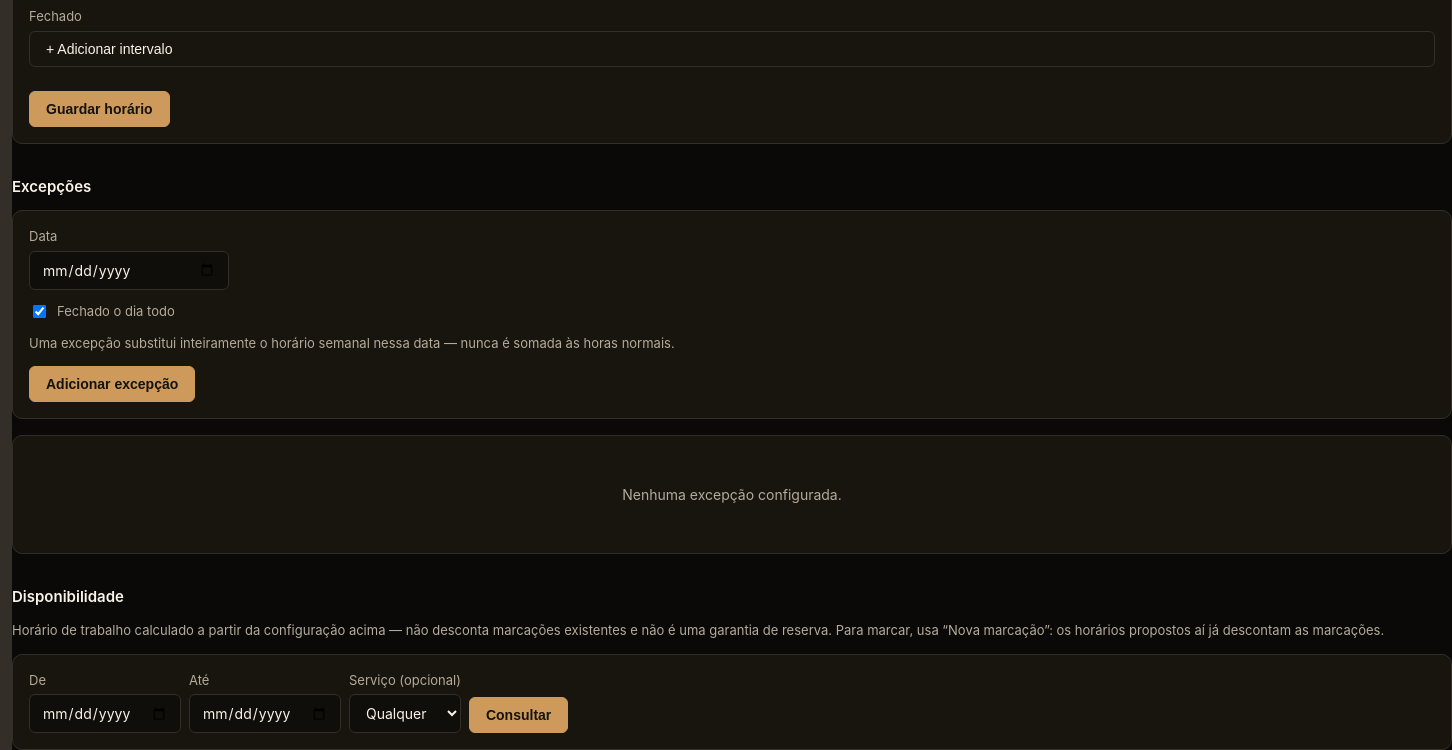
ProfessionalDetailPage — availability preview (F26, ADR-041: working availability, not a booking guarantee) › shows an empty state when every day in range has no working intervals
(page scrolled)
Type "2026-09-28" into the date field labelled "De".
click(105, 714); type("2026-09-28")  # box top-left (29, 694), bottom-right (181, 733)
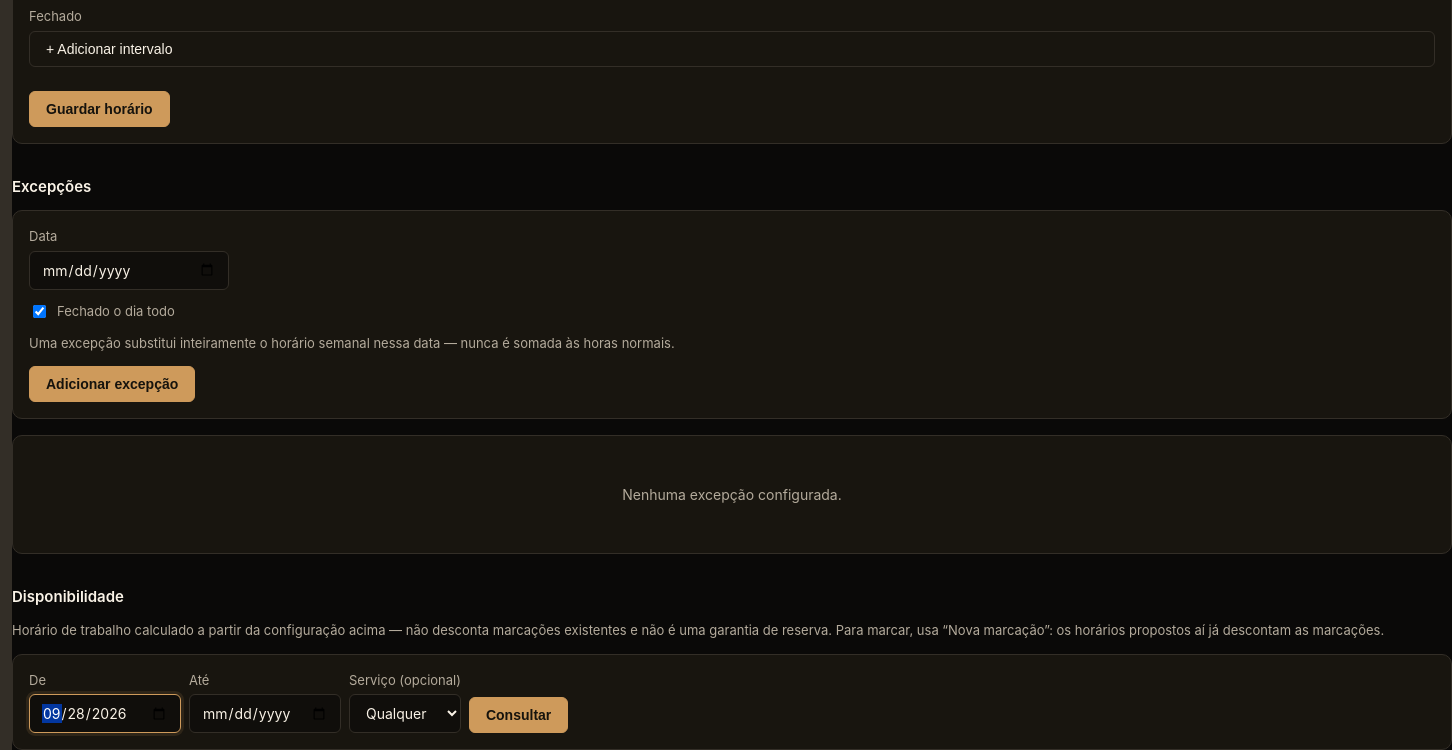
Type "2026-09-28" into the date field labelled "Até".
click(265, 714); type("2026-09-28")  # box top-left (189, 694), bottom-right (341, 733)
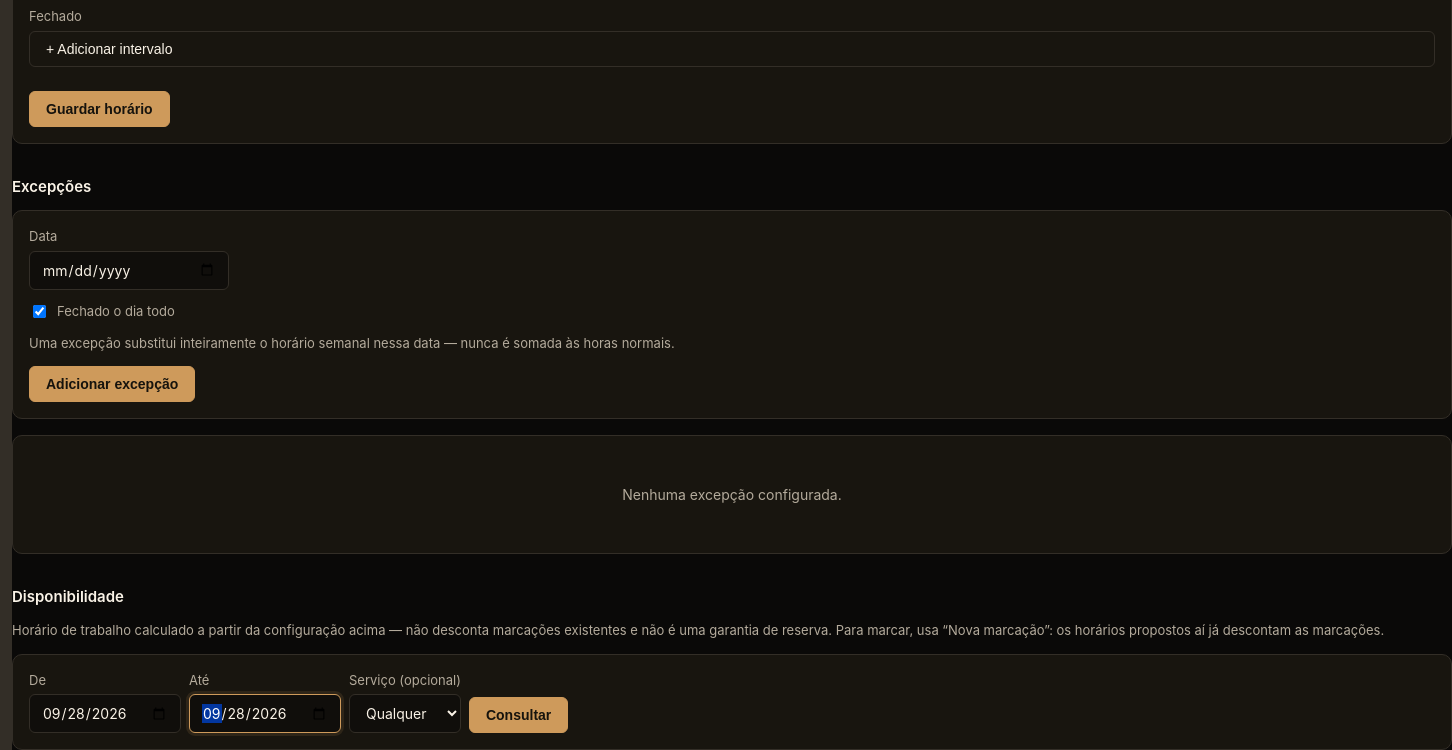
Click the button "Consultar".
click(519, 715)  # box top-left (469, 697), bottom-right (568, 733)
(page scrolled)
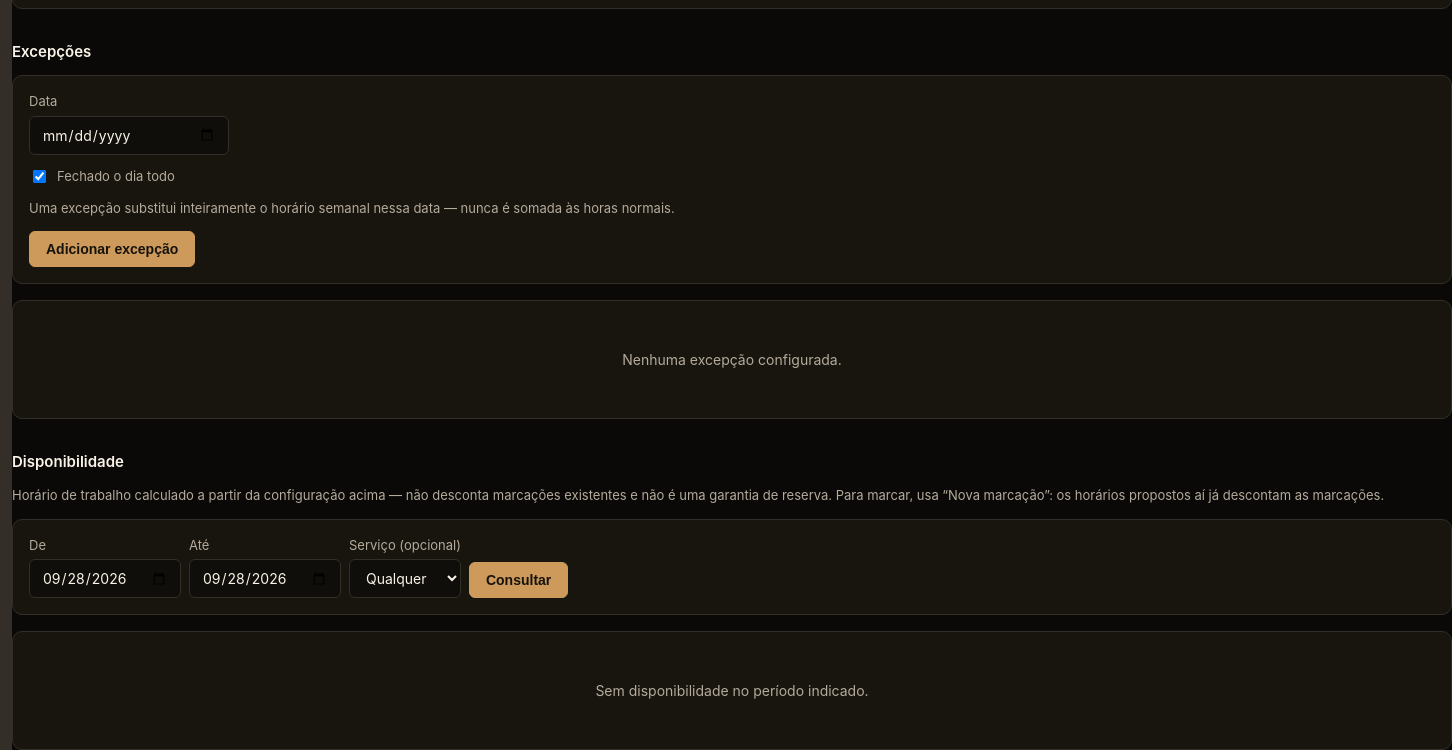
expect the text "Sem disponibilidade no período indicado." is shown: met, box top-left (12, 631), bottom-right (1451, 749)
